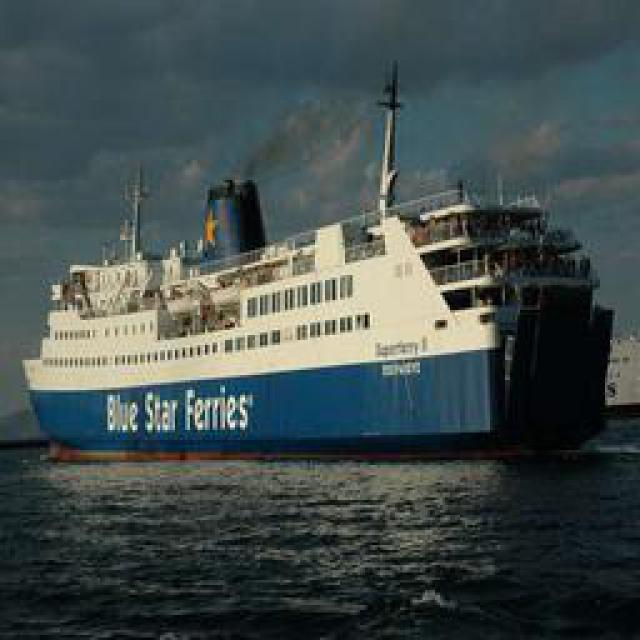Ship: (30, 111, 570, 464)
